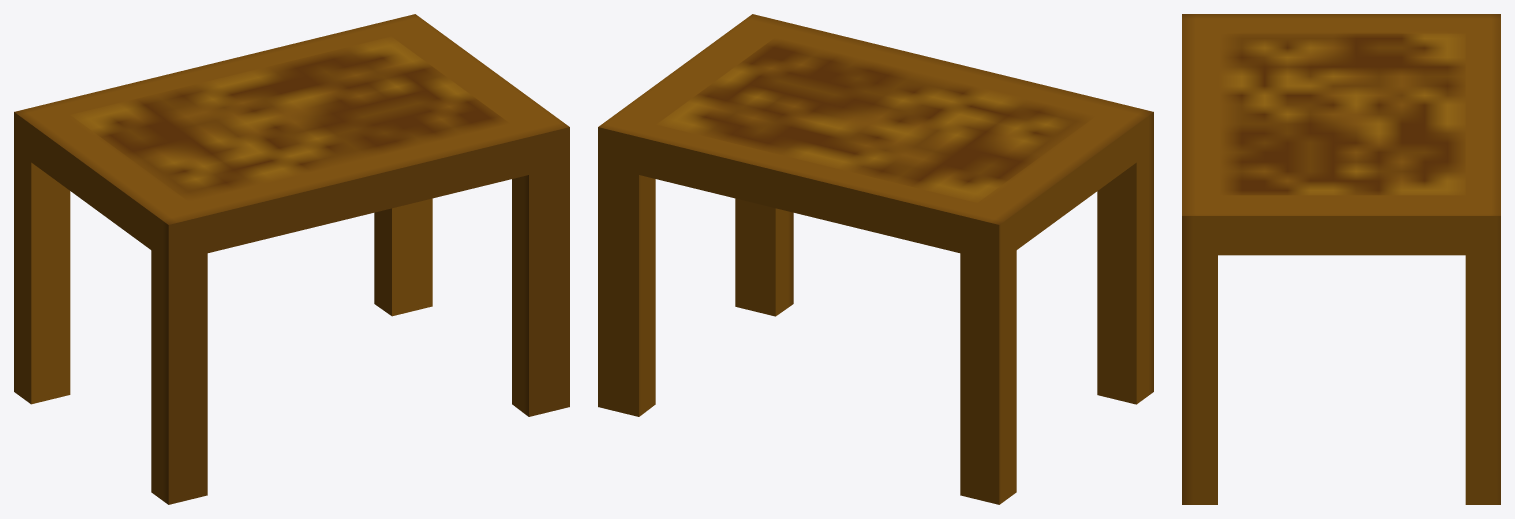
The model's file is table_1000x01.obj.
3 views of the same model, side by side, from view 1: azimuth 30°, elevation 25°; view 2: azimuth 150°, elevation 25°; view 3: azimuth 270°, elevation 25° (orthographic). The views are drawn at different scales.
Parts seen in each view (by area): view 1: Table_1000x1; view 2: Table_1000x1; view 3: Table_1000x1.
Boxes of the visible parts, x1,y1,x2,y2 form: Table_1000x1: (14,14,569,504); Table_1000x1: (598,14,1153,504); Table_1000x1: (1182,14,1500,504).
Bounding box in the file's own units: 3 × 2 × 2.
